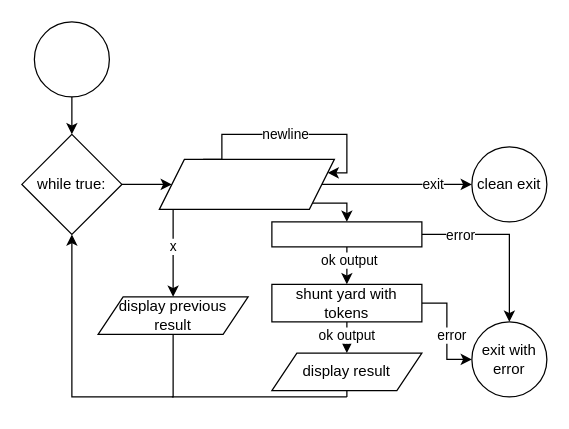
Image size: 569x429. Some labels were removed from this diagram. Here are the shapes that lost their labels. From the top down, the centre of each, then its label:
At pixel 71 59: "setup".
At pixel 246 183: "await user input".
At pixel 346 234: "tokenize input".
